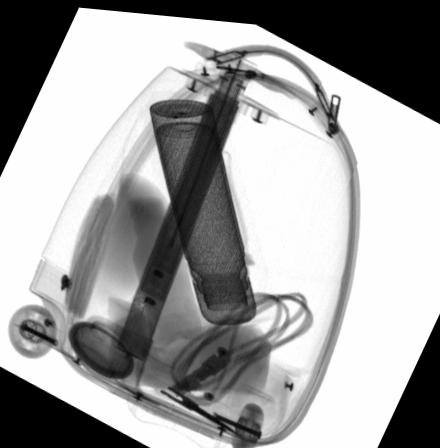Scissors: (125, 355, 240, 430)
